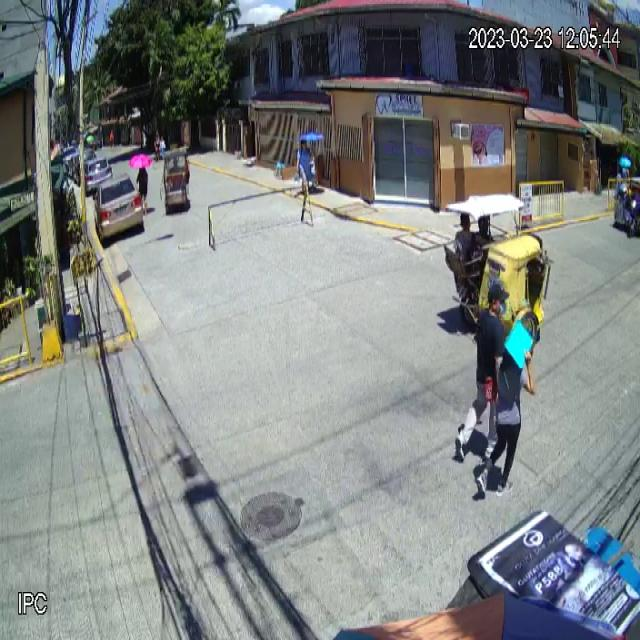Tricycle: (446, 191, 552, 350)
